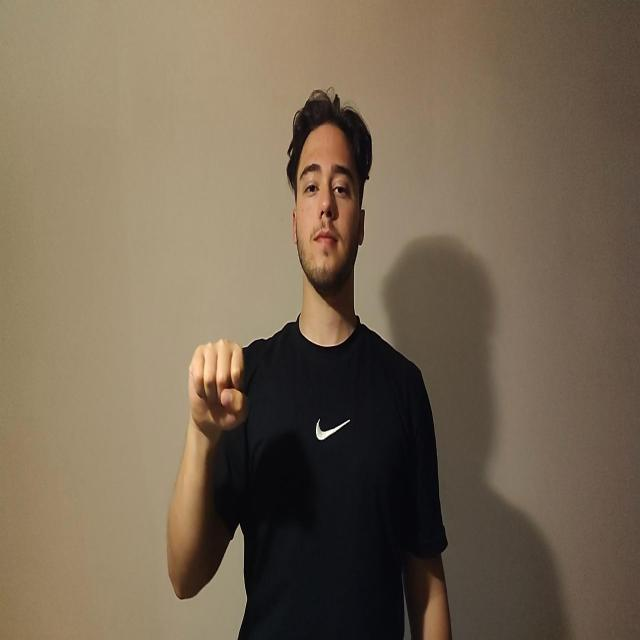yes: (188, 337, 249, 441)
